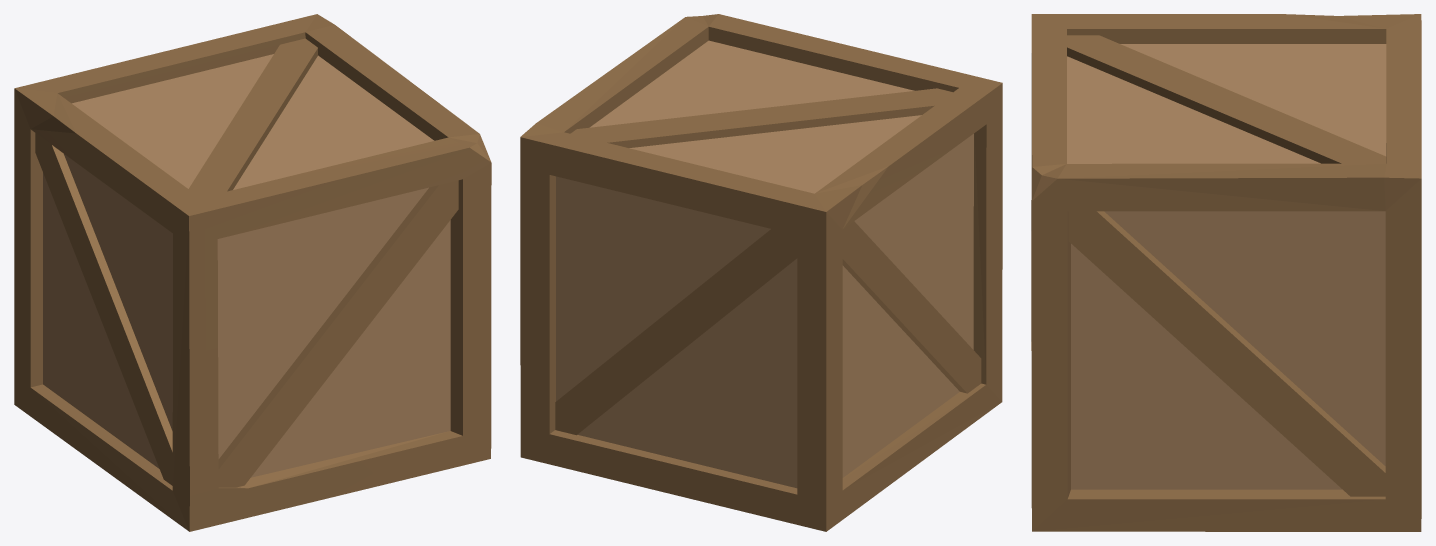
The picture shows the model from 3 angles, left to right: view 1: azimuth 30°, elevation 25°; view 2: azimuth 150°, elevation 25°; view 3: azimuth 270°, elevation 25°; orthographic projection. The views are drawn at different scales.
Parts seen in each view (by area): view 1: SM_Box_01; view 2: SM_Box_01; view 3: SM_Box_01.
Boxes of the visible parts, x1,y1,x2,y2 form: SM_Box_01: [14, 14, 491, 531]; SM_Box_01: [520, 14, 1002, 531]; SM_Box_01: [1031, 14, 1421, 531].
Size of the model in its own units: 0.9163 by 0.9166 by 0.9132.
Materials: 1 (1 with a texture image).
